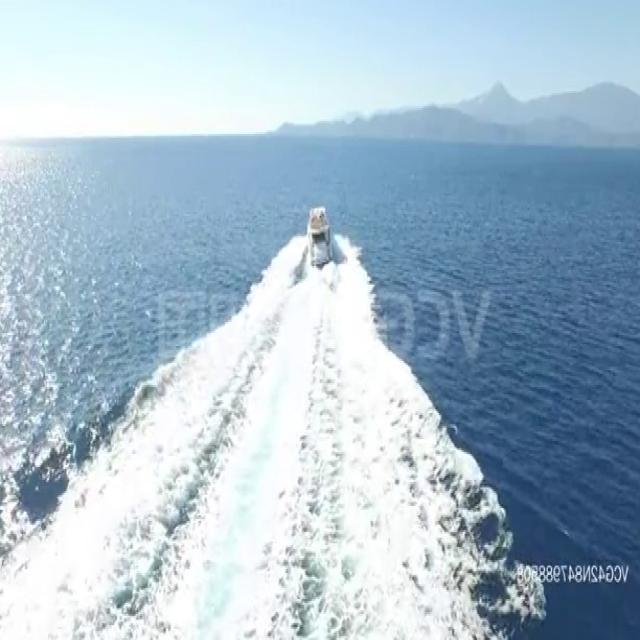houseboat: (308, 204, 334, 269)
